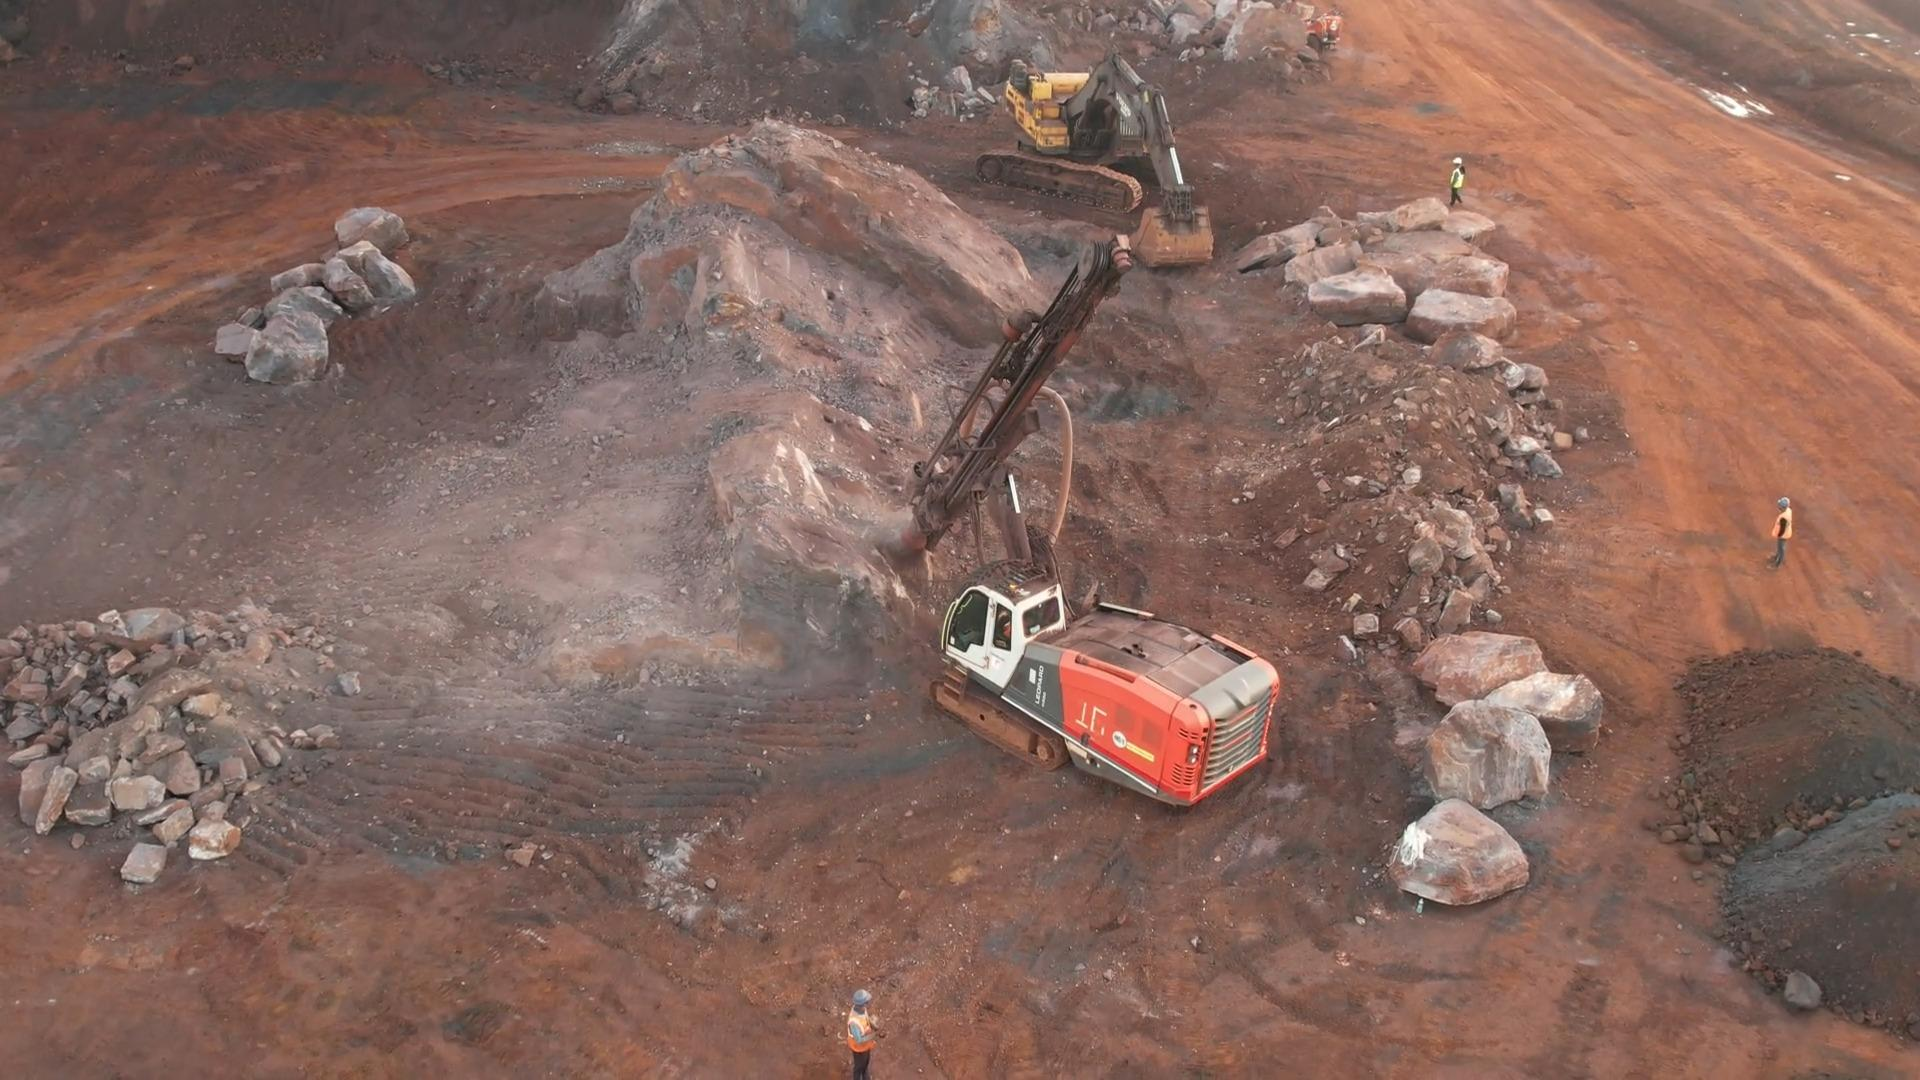excavator: (991, 51, 1211, 226)
